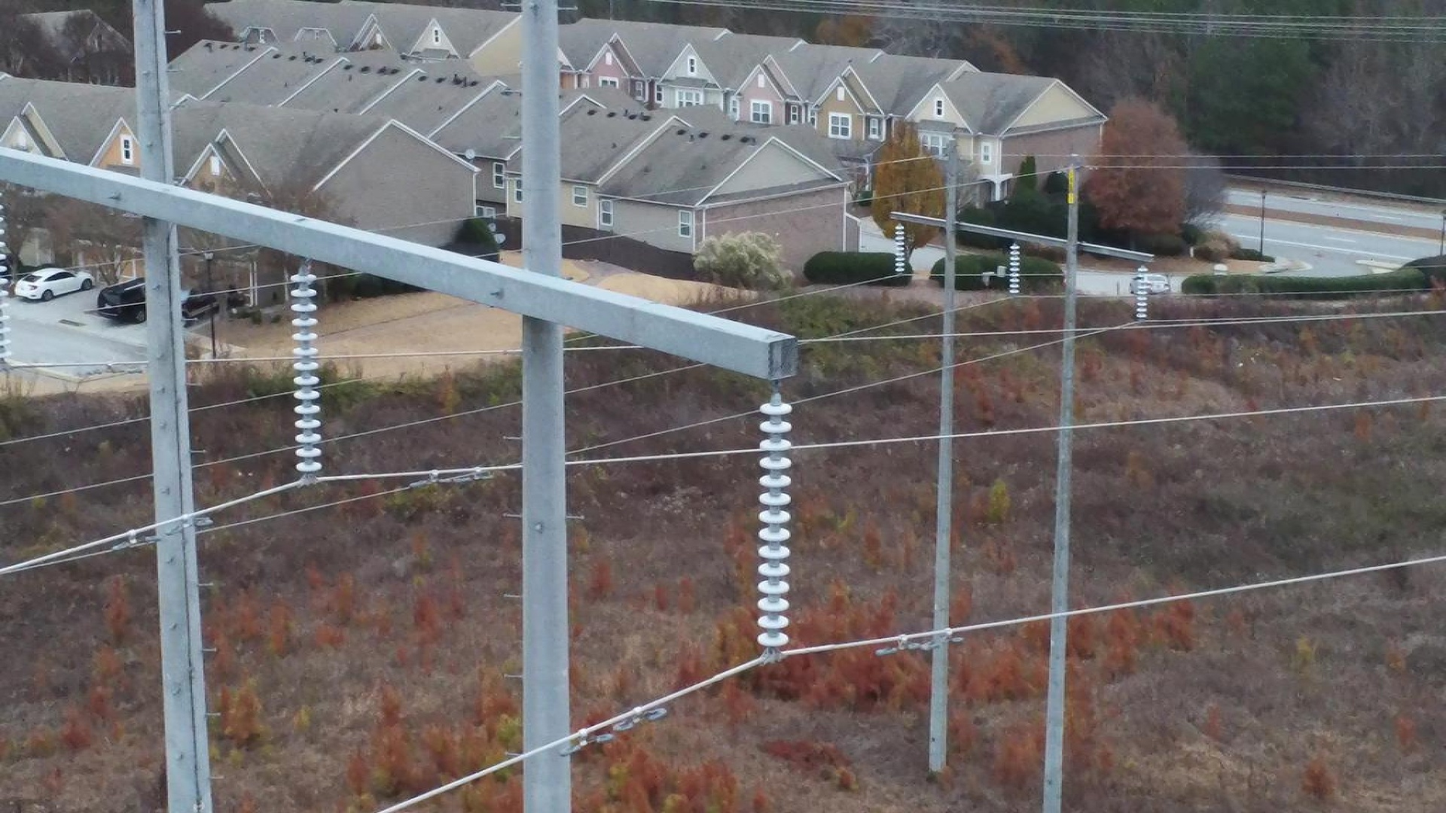insulator: (750, 397, 798, 652), (285, 267, 325, 481), (1134, 265, 1150, 321), (1008, 243, 1023, 297), (893, 224, 905, 275)
